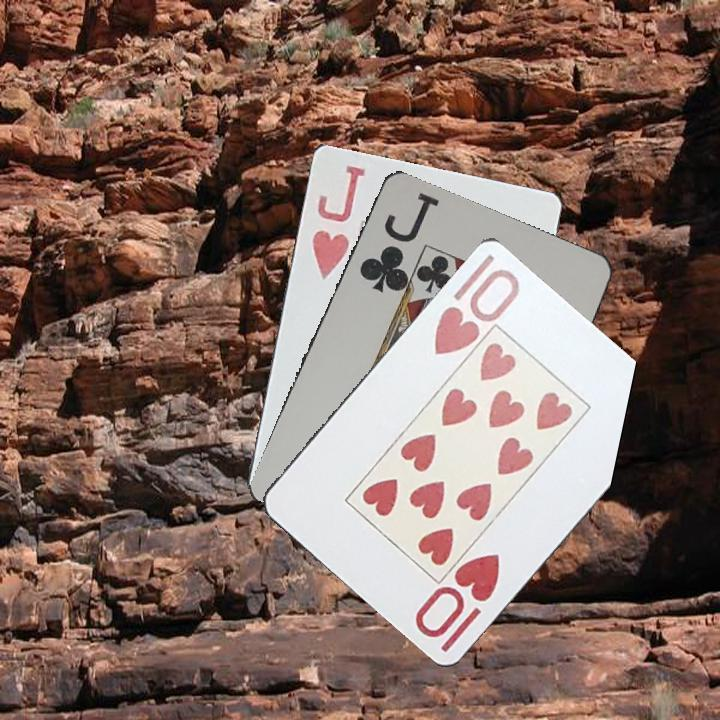Jc: (356, 188, 436, 295)
Jh: (308, 161, 368, 282)
Th: (411, 549, 503, 655), (430, 264, 523, 358)
